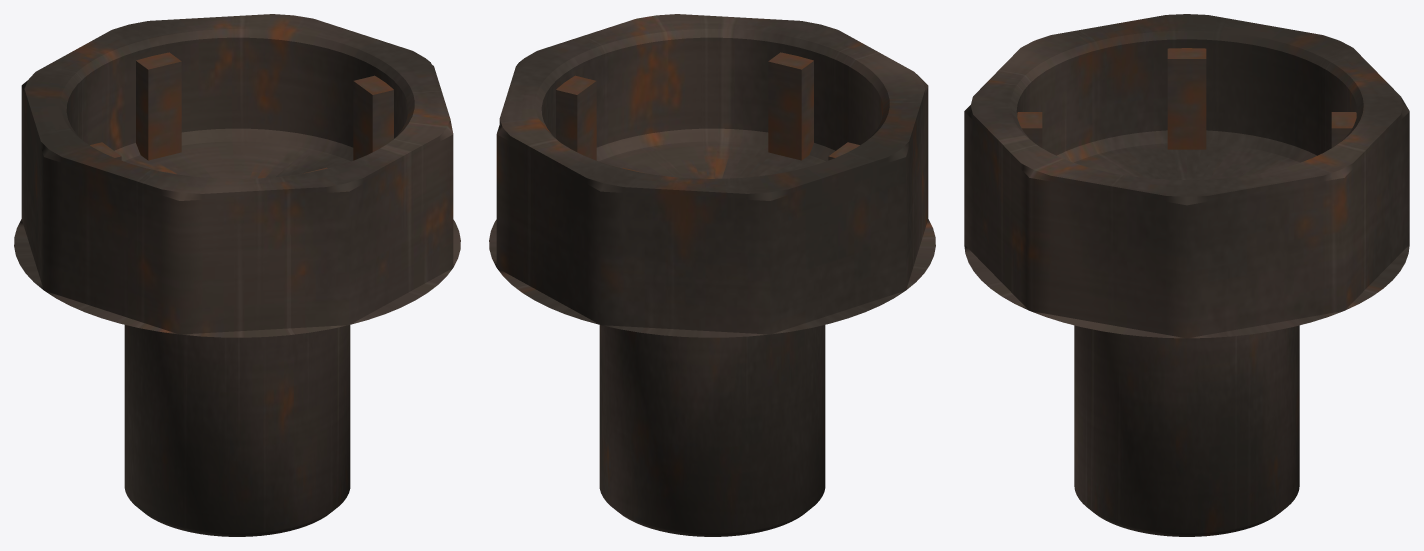
Rendered from SM_CasseBit_8po.glb.
3 renders of one model, left to right at view 1: azimuth 30°, elevation 25°; view 2: azimuth 150°, elevation 25°; view 3: azimuth 270°, elevation 25°, orthographic.
Parts seen in each view (by area): view 1: CasseBit_8po, CasseBit_8po_Ergots; view 2: CasseBit_8po, CasseBit_8po_Ergots; view 3: CasseBit_8po, CasseBit_8po_Ergots.
Part boxes in pixels (x1,y1,x2,y2): CasseBit_8po: (14, 14, 460, 536); CasseBit_8po_Ergots: (90, 52, 393, 173); CasseBit_8po: (489, 14, 935, 536); CasseBit_8po_Ergots: (556, 52, 859, 173); CasseBit_8po: (964, 14, 1409, 536); CasseBit_8po_Ergots: (1017, 48, 1356, 149).
Size of the model in its own units: 0.2762 by 0.265 by 0.2762.
2 materials, 2 textured.
